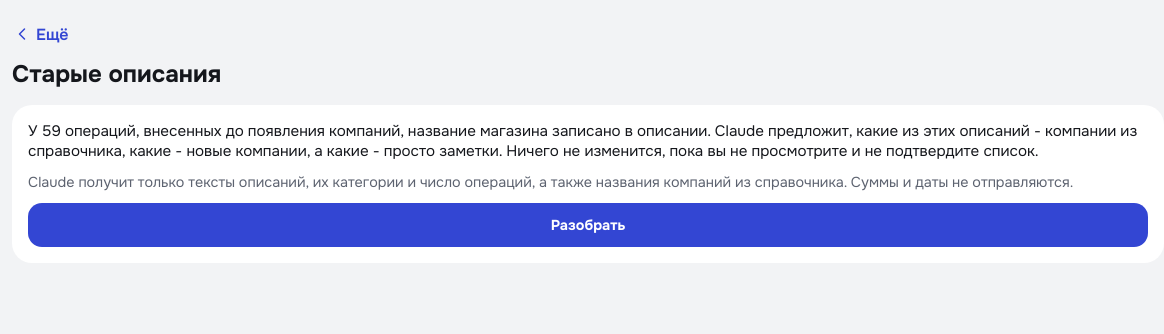
CleanupScreen: nothing started › shows the server message for 409 and lets the user try again
Later steps or results of the test are not shown.
Click the button "Разобрать". click: [588, 225]
box: [28, 203, 1148, 247]
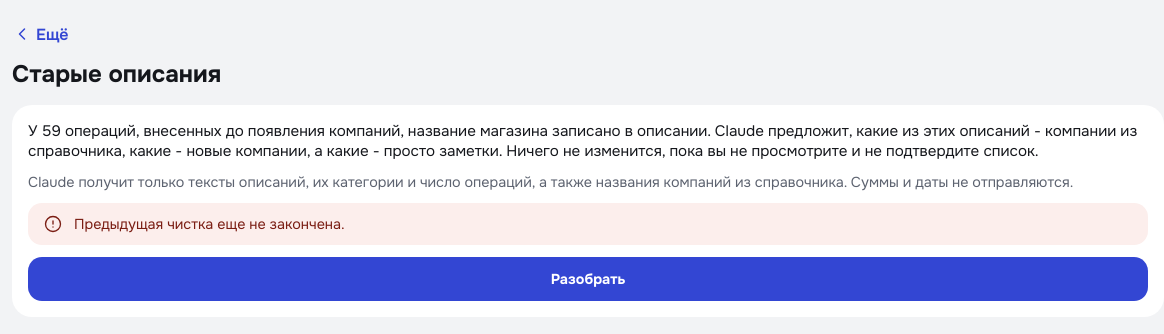
expect the button "Разобрать" is enabled: met, box [28, 257, 1148, 301]
expect the message reads "Предыдущая чистка еще не закончена.": met, box [74, 215, 345, 233]
